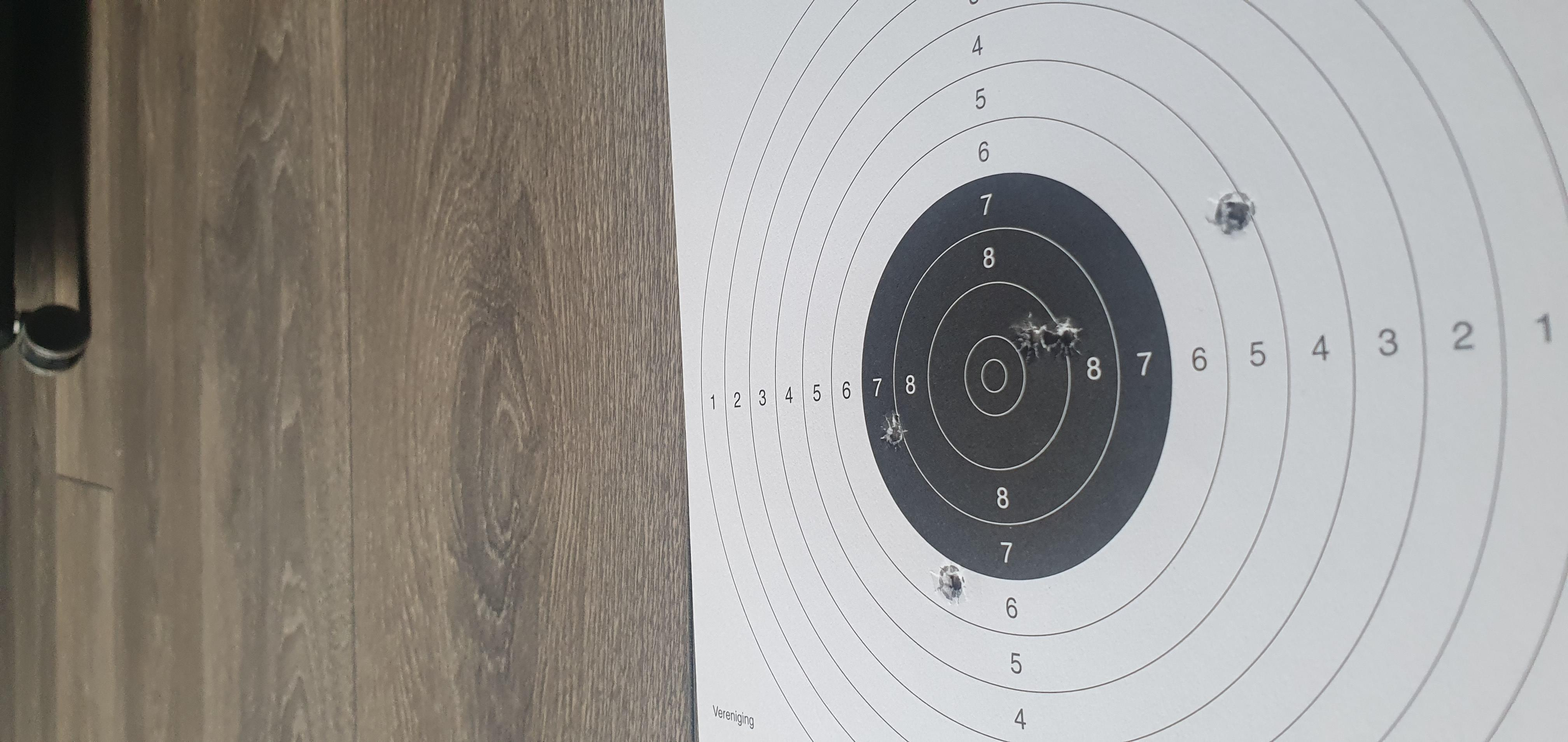hole: (1072, 573, 1166, 594), (284, 440, 378, 458), (807, 479, 900, 495), (816, 496, 897, 513), (610, 415, 699, 430)
